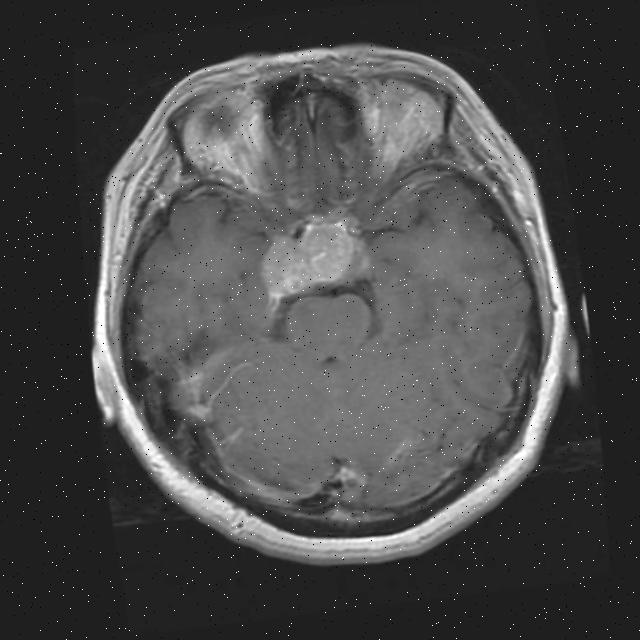Pituitary: (257, 217, 359, 299)
